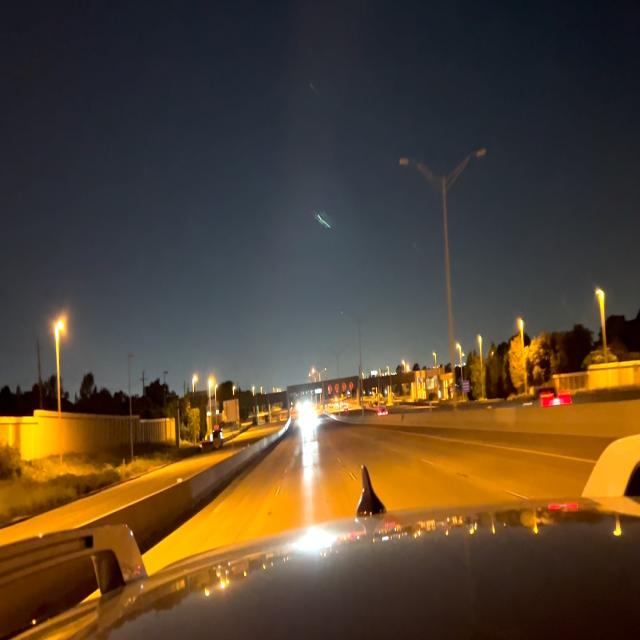back-of-sign: (222, 398, 242, 424)
